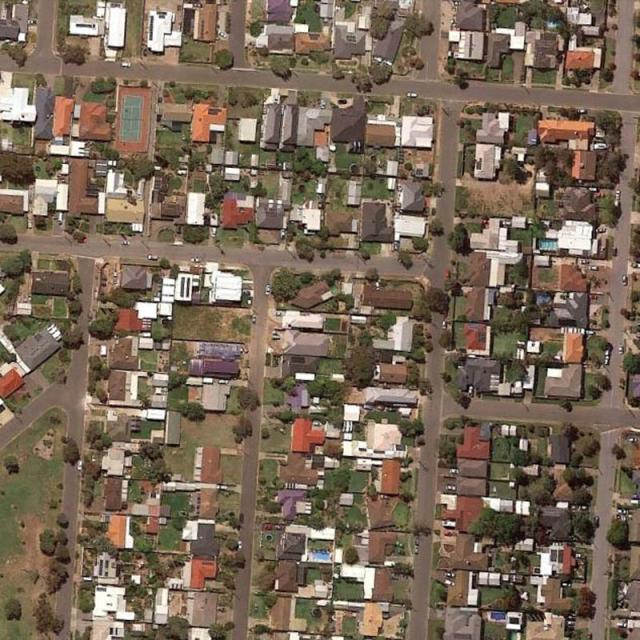vehicle: (189, 256, 204, 264), (602, 351, 610, 365), (562, 580, 574, 589), (237, 539, 244, 554), (75, 458, 83, 471), (74, 238, 87, 245), (216, 30, 226, 39), (445, 483, 455, 492), (618, 275, 626, 286), (374, 280, 382, 291), (122, 61, 134, 68), (406, 91, 418, 98), (146, 254, 158, 261), (440, 321, 447, 333), (443, 579, 455, 586), (594, 514, 600, 528), (266, 282, 271, 298), (616, 189, 622, 202), (27, 19, 38, 26), (617, 345, 624, 356), (468, 386, 475, 397), (443, 572, 455, 578), (618, 508, 629, 514), (578, 504, 589, 510), (626, 436, 637, 442), (216, 485, 229, 490), (590, 265, 598, 273), (450, 466, 458, 474), (598, 226, 606, 234), (613, 246, 618, 258), (413, 542, 418, 553), (212, 228, 217, 238), (281, 230, 286, 240), (322, 98, 326, 110), (617, 622, 626, 627), (568, 621, 577, 626), (28, 218, 32, 229), (579, 108, 586, 114), (122, 242, 130, 246)
